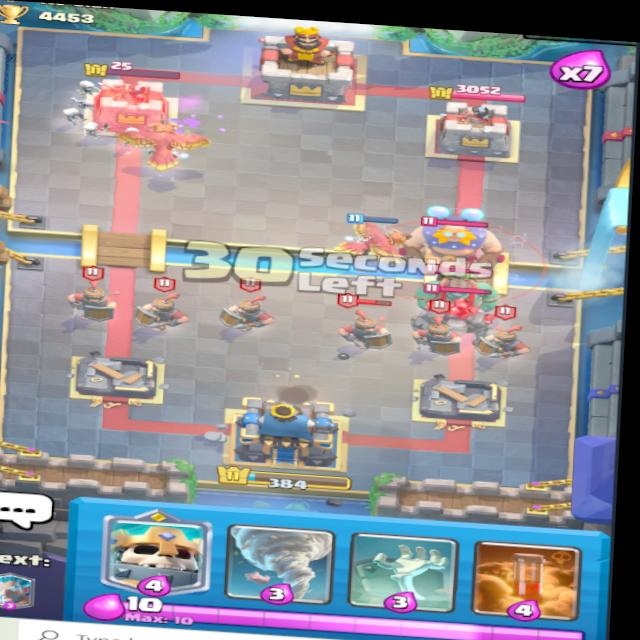electro-giant: (403, 200, 510, 270)
goblin-giant: (419, 255, 500, 314)
golem: (407, 274, 511, 347)
royal-recruits: (480, 301, 542, 366), (223, 275, 277, 339), (341, 291, 393, 353), (410, 310, 468, 358), (66, 270, 120, 318), (141, 276, 185, 333)
